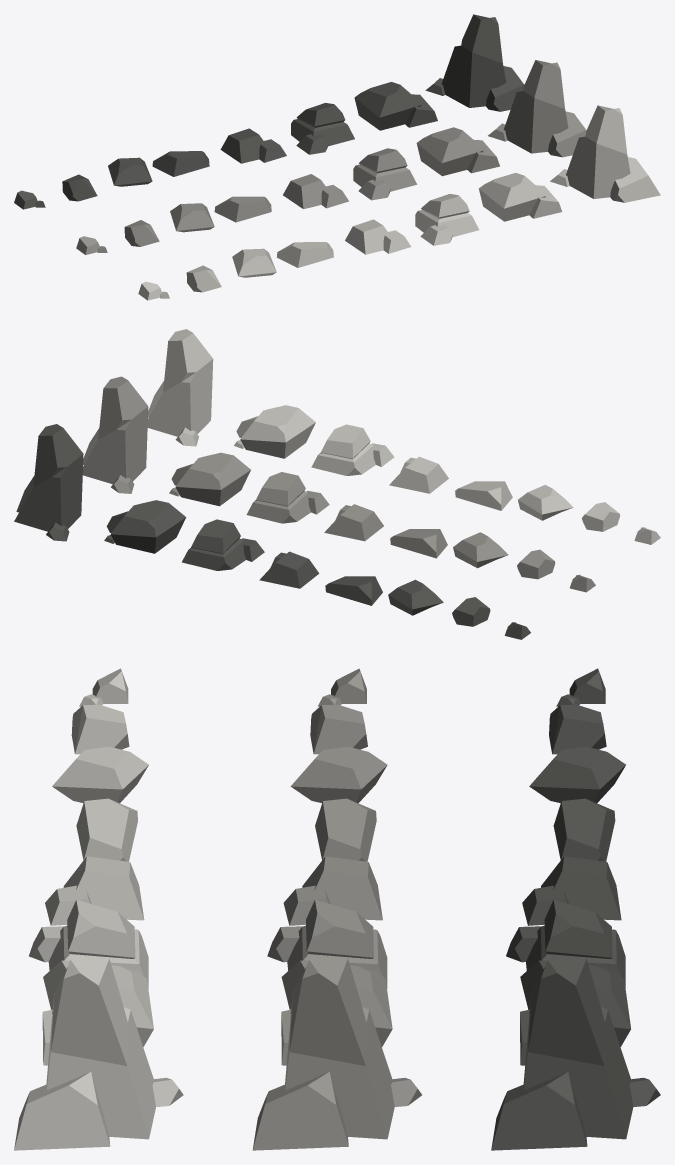
File: low_poly_rock_asset_pack.glb
3 views of the same model, one above another, from view 1: azimuth 30°, elevation 25°; view 2: azimuth 150°, elevation 25°; view 3: azimuth 270°, elevation 25° (orthographic). The views are drawn at different scales.
Visible parts, largest first — view 1: Cube.005, Cube.013, Cube.021, Cube.001, Cube.017, Cube.009, Cube.014, Cube.022, Cube.006, Cube.016, Cube, Cube.008 (+9 smaller); view 2: Cube.021, Cube.005, Cube.013, Cube.017, Cube.001, Cube.009, Cube.014, Cube.006, Cube.022, Cube.016, Cube.008, Cube (+9 smaller); view 3: Cube.021, Cube.005, Cube.013, Cube.014, Cube.006, Cube.022, Cube, Cube.008, Cube.016, Cube.007, Cube.015, Cube.023 (+12 smaller).
Boxes of the visible parts, left/top/right/bottom form: Cube.005: left=550, top=105, right=660, bottom=202; Cube.013: left=488, top=60, right=586, bottom=157; Cube.021: left=425, top=14, right=524, bottom=111; Cube.001: left=478, top=173, right=562, bottom=221; Cube.017: left=354, top=82, right=437, bottom=130; Cube.009: left=416, top=127, right=499, bottom=176; Cube.014: left=353, top=148, right=417, bottom=200; Cube.022: left=291, top=103, right=354, bottom=154; Cube.006: left=415, top=194, right=479, bottom=245; Cube.016: left=220, top=128, right=286, bottom=163; Cube: left=345, top=219, right=411, bottom=254; Cube.008: left=283, top=174, right=348, bottom=209; Cube.021: left=14, top=424, right=83, bottom=541; Cube.005: left=147, top=329, right=213, bottom=446; Cube.013: left=82, top=376, right=148, bottom=493; Cube.017: left=104, top=500, right=186, bottom=553; Cube.001: left=234, top=405, right=315, bottom=458; Cube.009: left=169, top=452, right=250, bottom=506; Cube.014: left=246, top=472, right=329, bottom=523; Cube.006: left=311, top=424, right=394, bottom=475; Cube.022: left=182, top=519, right=264, bottom=570; Cube.016: left=259, top=551, right=319, bottom=588; Cube.008: left=324, top=504, right=383, bottom=541; Cube: left=389, top=456, right=448, bottom=493; Cube.021: left=491, top=955, right=660, bottom=1150; Cube.005: left=14, top=955, right=183, bottom=1150; Cube.013: left=252, top=955, right=421, bottom=1150; Cube.014: left=267, top=899, right=387, bottom=988; Cube.006: left=29, top=899, right=148, bottom=988; Cube.022: left=506, top=899, right=625, bottom=987; Cube: left=45, top=856, right=144, bottom=925; Cube.008: left=283, top=856, right=382, bottom=925; Cube.016: left=522, top=856, right=621, bottom=925; Cube.007: left=52, top=746, right=148, bottom=803; Cube.015: left=290, top=746, right=387, bottom=803; Cube.023: left=529, top=746, right=625, bottom=803.
Size of the model in its own units: 10.31 by 1.67 by 6.1.
Materials: 1 (1 with a texture image).
